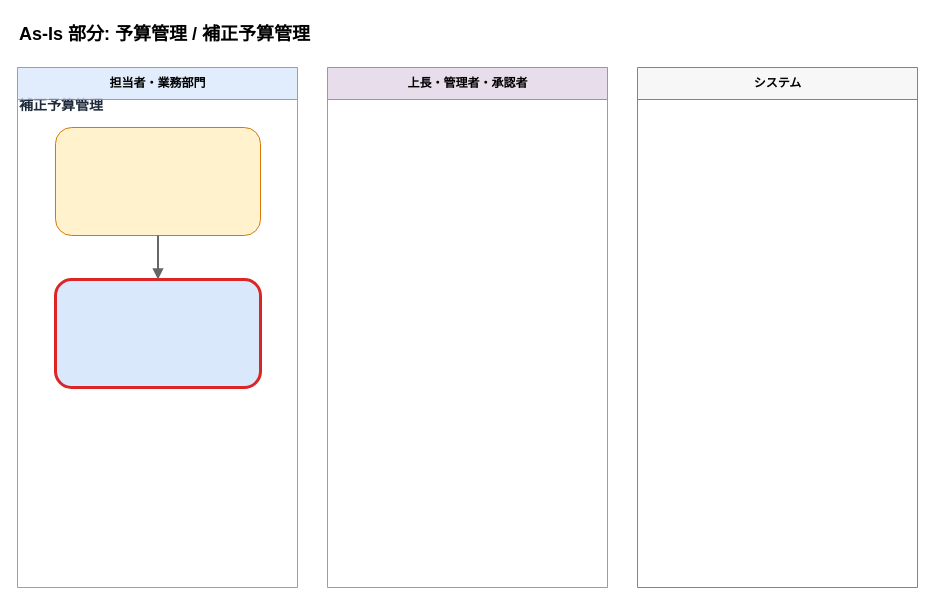
Some shapes in this 935 by 605 pixel diagram are drawn without their labels. The shapes that lost their labels are listed below. From the top down, each one's centre as x and y in pixels, then its label:
At [157,181]: "1. 予算差異の確認 共通: 内容確認 30分 / 負担: 中 【要確認】質問: 補正予算作成の基準額や乖離率を確認したい。 / 回答例: 基準外の場合は担…".
At [158,333]: "2. 補正予算案作成 共通: 計算・作成 45分 / 負担: 高".
